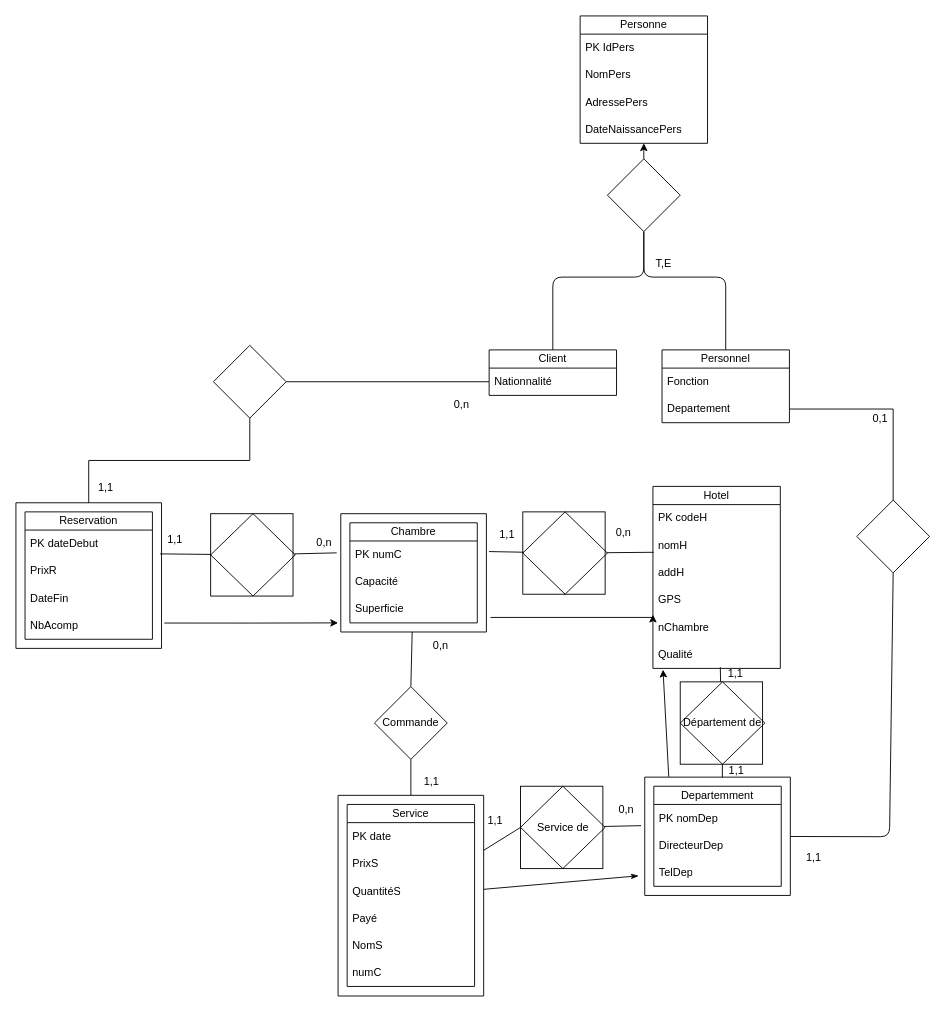
Image size: 945x1012. Some labels were removed from this diagram. The box of each missing label's shape, as (x1, y1, x2, y2) in pixels:
Dirige: (856, 499, 930, 573)
IS_A: (607, 158, 680, 232)
Reservation de: (210, 513, 295, 596)
Reserve: (212, 344, 286, 418)
Se trouve: (522, 511, 607, 594)
